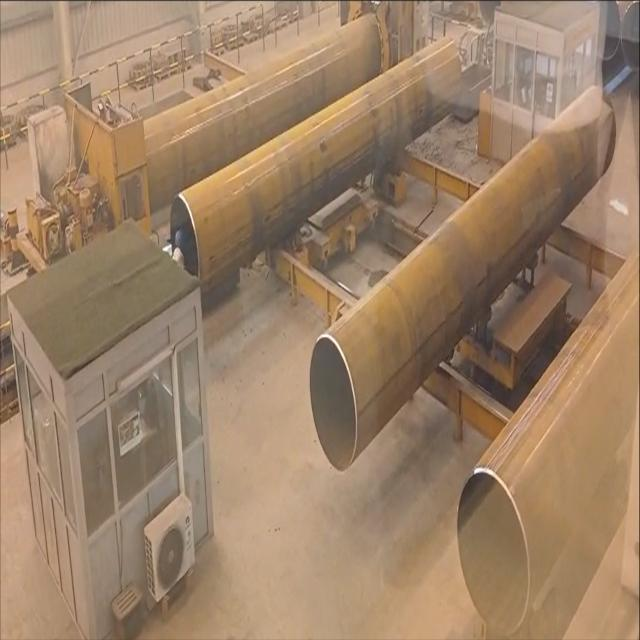warningzone: (445, 221, 628, 424), (267, 148, 483, 318)
